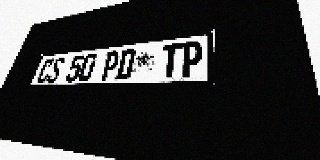0: (77, 53, 98, 82)
5: (65, 54, 85, 82)
C: (36, 58, 55, 83)
D: (114, 48, 136, 80)
P: (180, 40, 203, 77), (99, 50, 121, 81)
S: (46, 57, 65, 83)
T: (159, 43, 182, 78)
